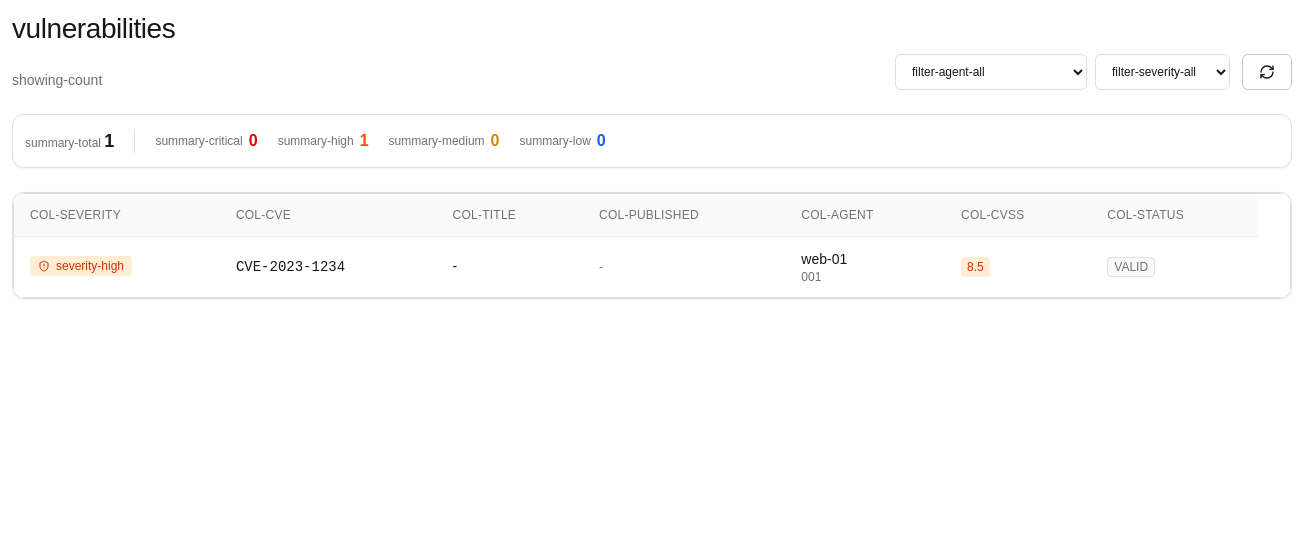
Test case: Vulnerabilities page › shows analysis content when analyses exist
The width and height of the screenshot is (1304, 557).
Expected: the text "CVE-2023-1234" is shown, x1=236 y1=259 x2=345 y2=275
Click the row "severity-high CVE-2023-1234 - - web-01 001 8.5 VALID".
click(81, 266)  # box x1=14 y1=236 x2=1290 y2=297
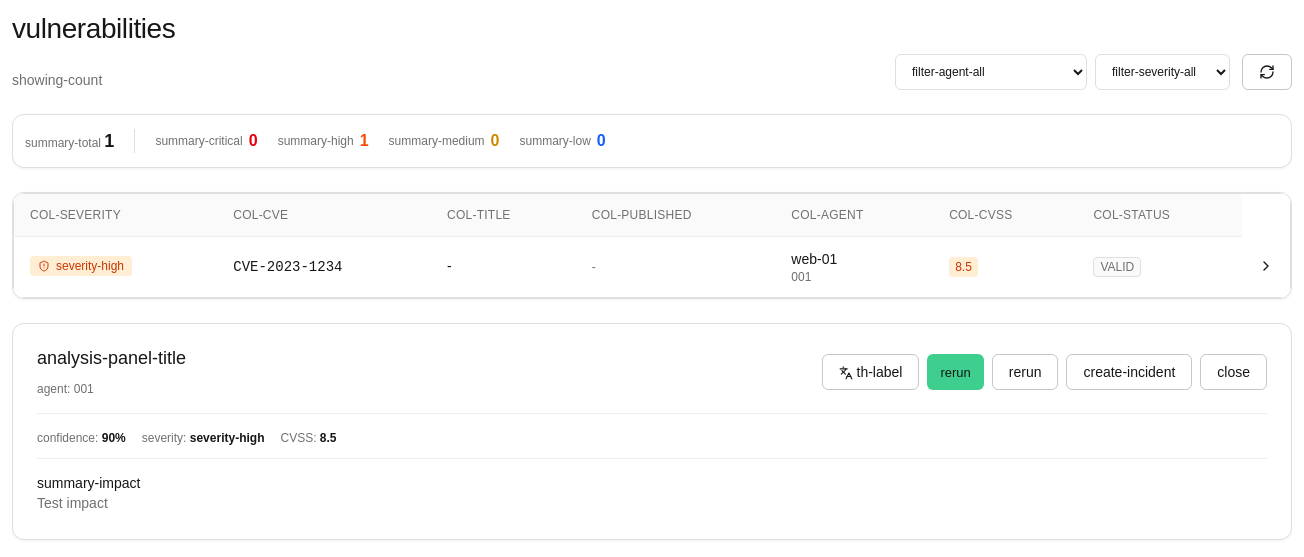
Now the element with test id "verdict-content" is shown, box x1=37 y1=430 x2=1267 y2=515
Now the text "Test impact" is shown, box x1=37 y1=495 x2=108 y2=511
